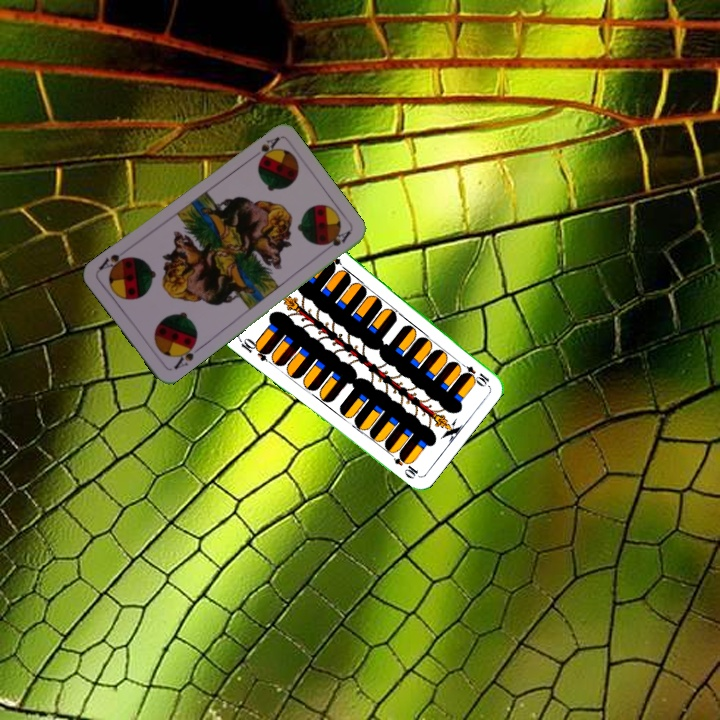E10: (455, 358, 492, 388), (235, 334, 272, 364)
SA: (170, 338, 203, 372), (255, 133, 282, 162)
